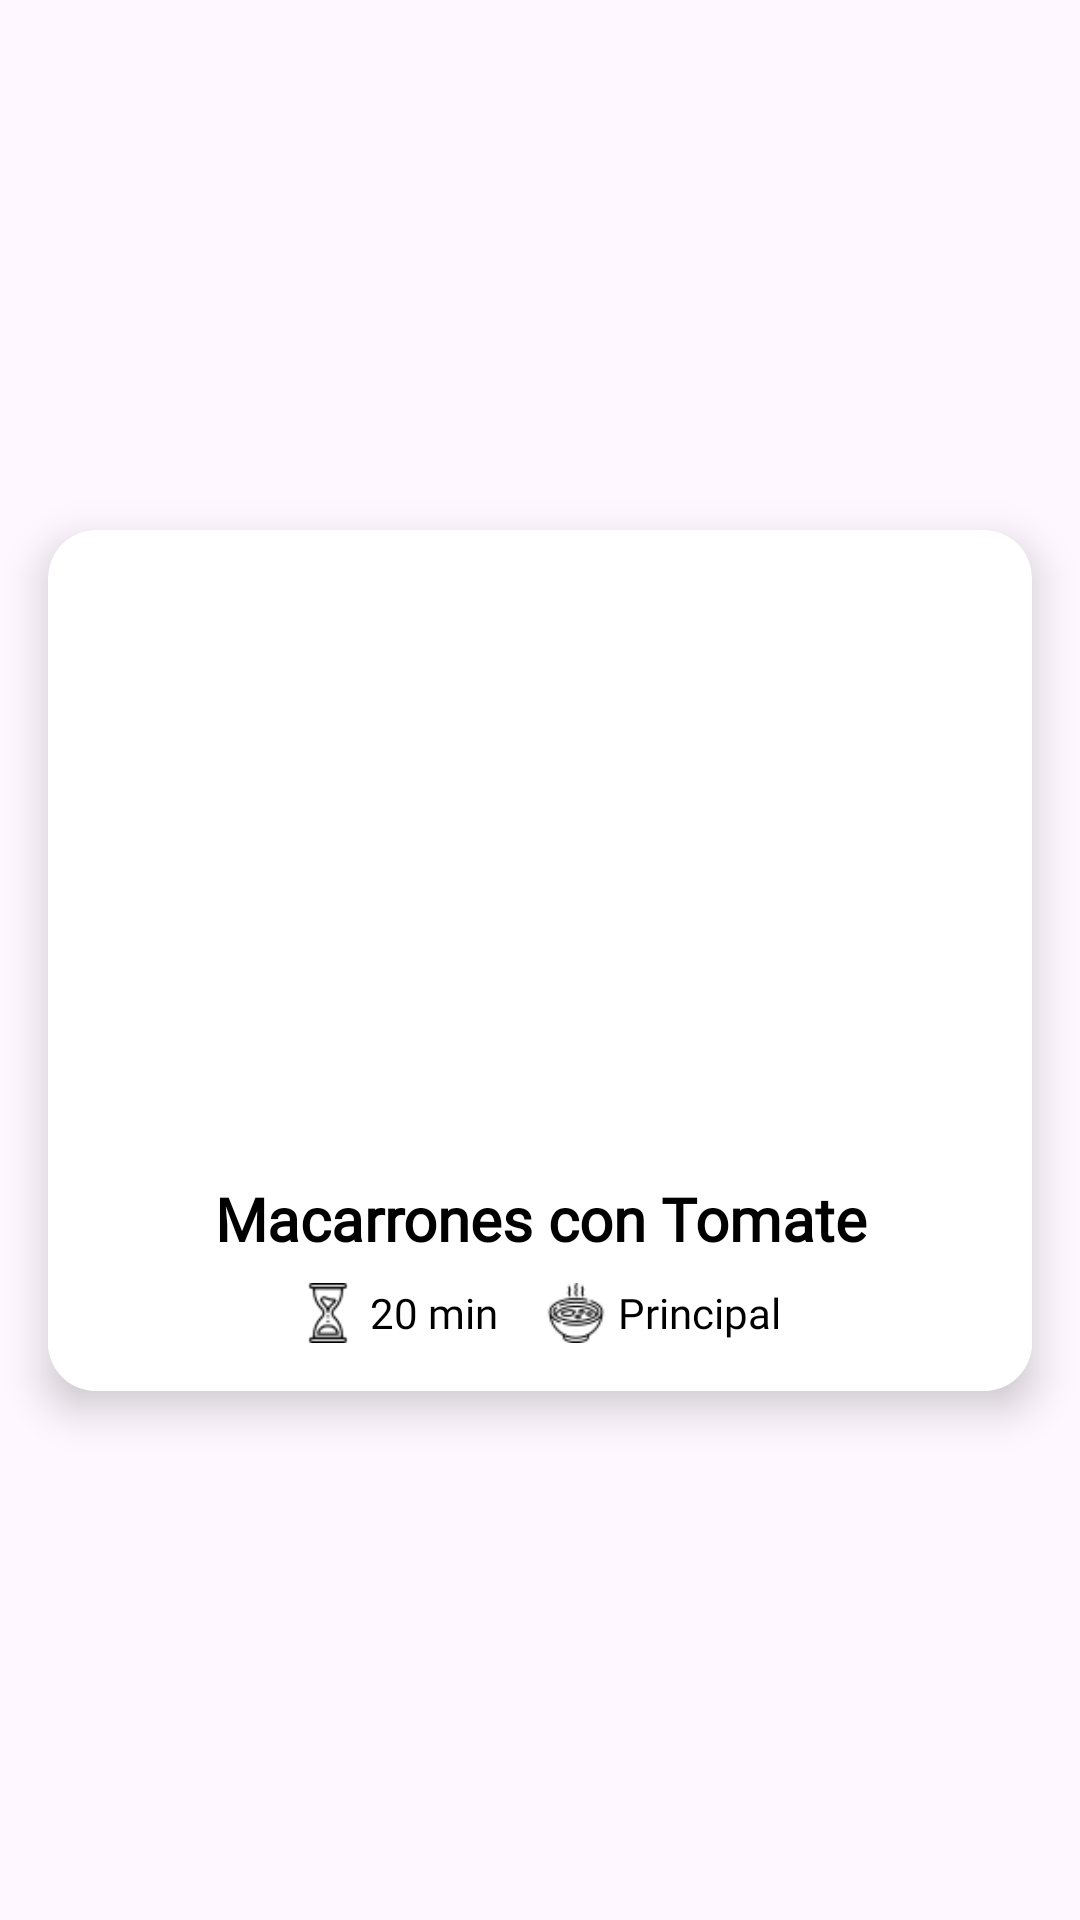

Point at icon controls on the screen. Image size 1080px×1920px, points as point (x, y).
tiempo receta: point (328, 1313)
tipo plato: point (576, 1313)
